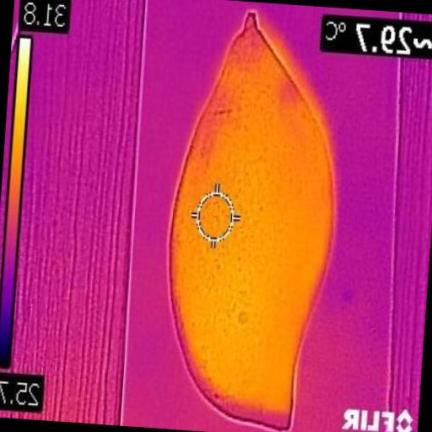mango: (171, 13, 335, 430)
